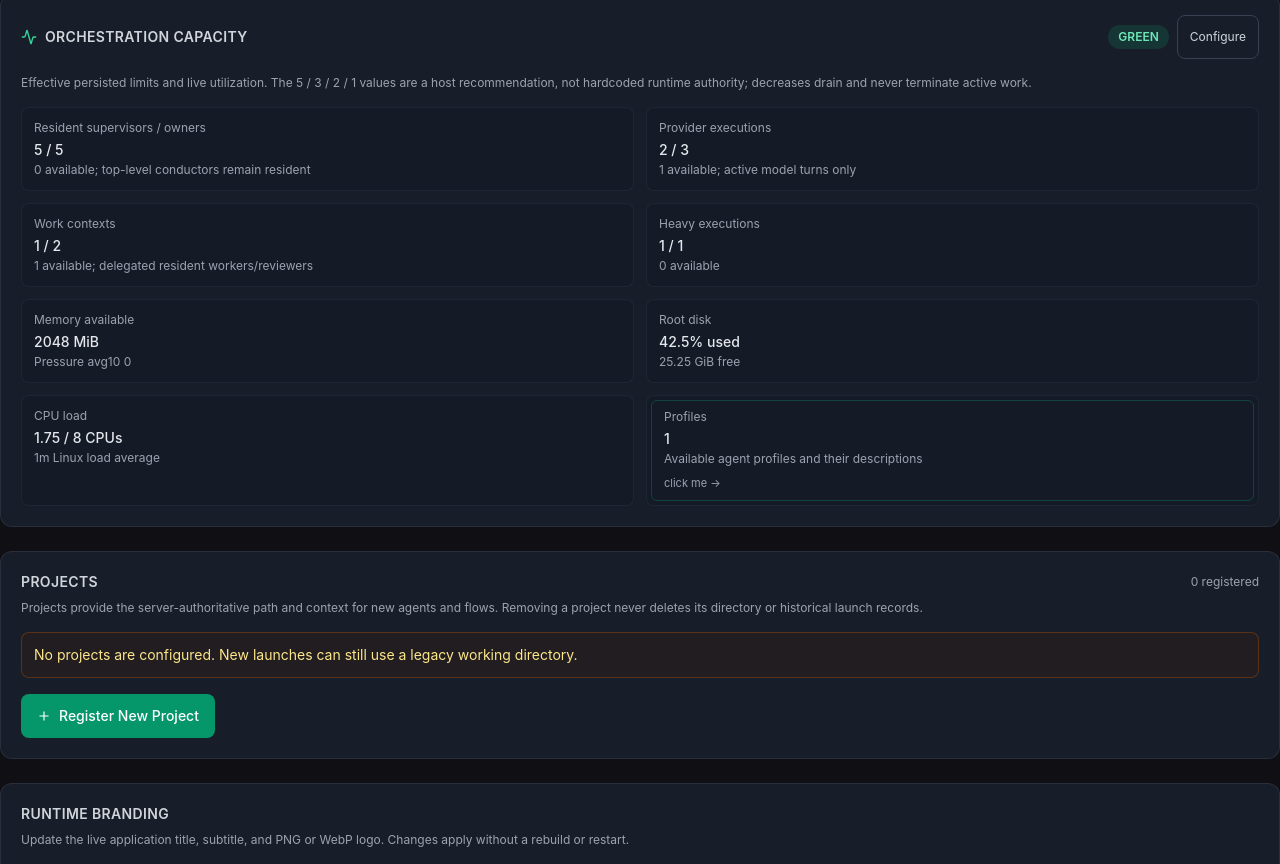
Scenario: Settings orchestration capacity › shows effective limits separately from live utilization and has no policy controls
(page scrolled)
Expected: the heading "Orchestration Capacity" is shown, [45, 27, 248, 47]
Expected: the text named "Resource health GREEN" is shown, [1108, 25, 1169, 49]
Click the button "Profiles" at (952, 450), box [646, 395, 1259, 506]
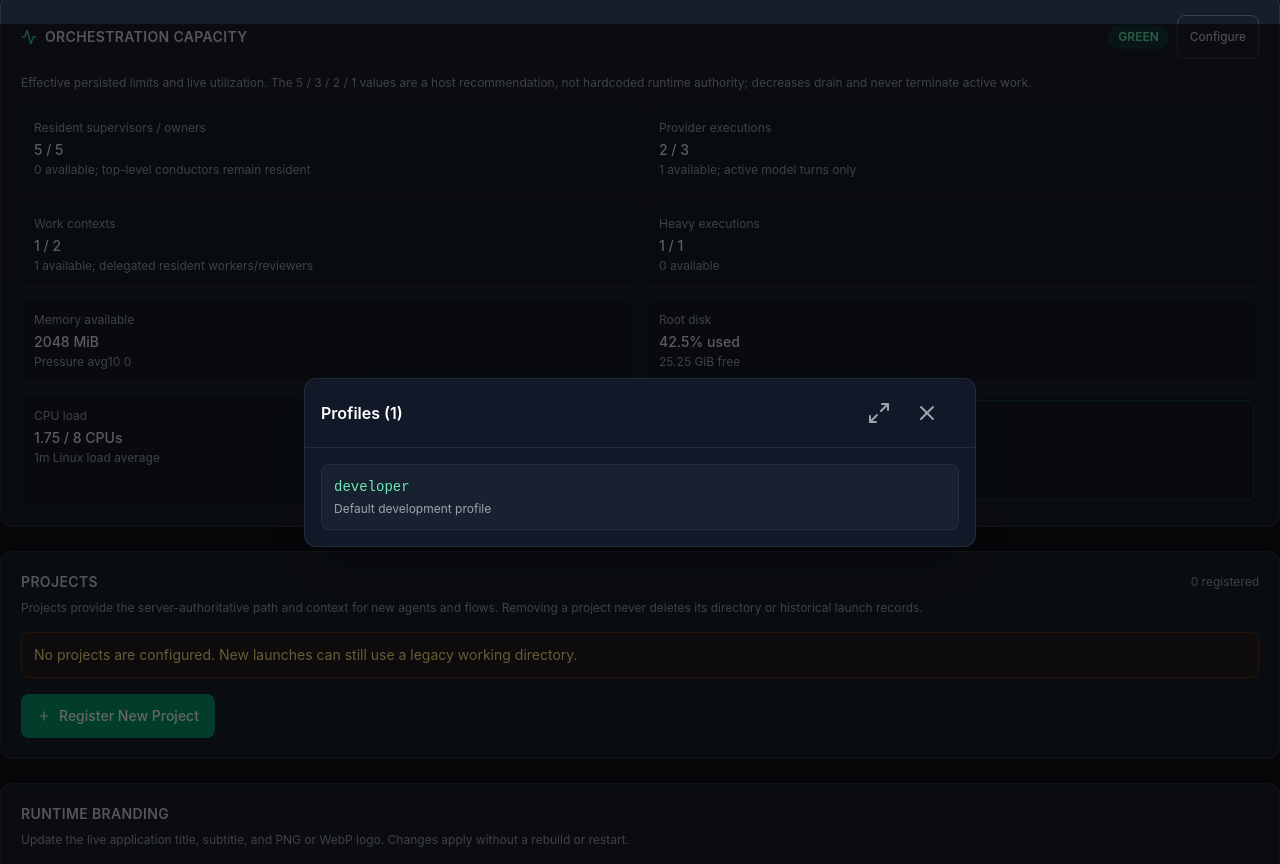
Expected: the text "Provider executions" is shown, [659, 120, 771, 135]
Expected: the dialog "Profiles" shows "Default development profile", [334, 500, 491, 516]
